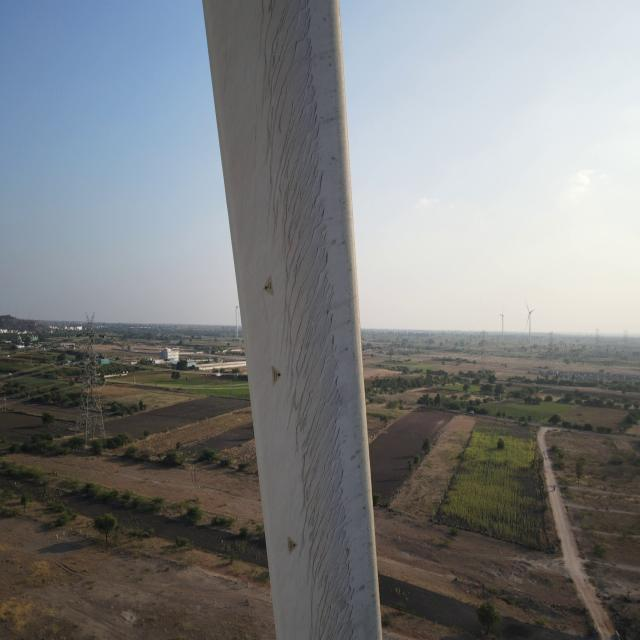Dirt: (260, 0, 371, 640)
Pin Hole: (284, 532, 304, 558), (272, 363, 285, 384), (265, 282, 274, 294)
